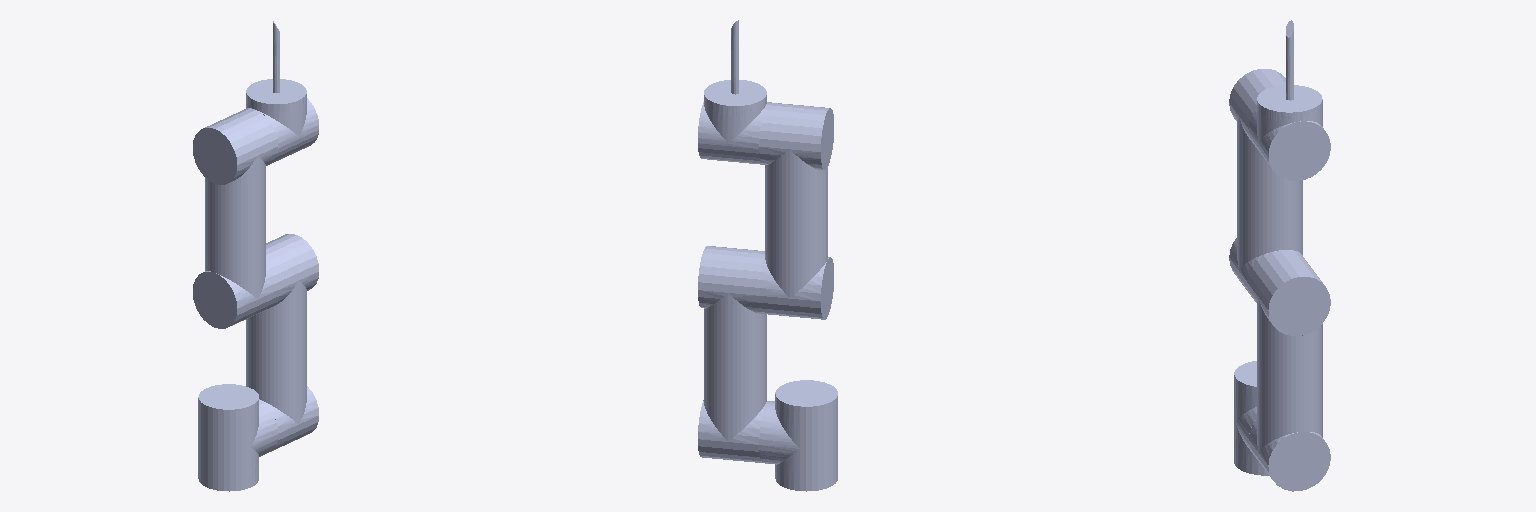
URDF robot description (CIARAFINAL):
<?xml version="1.0" encoding="utf-8"?>
<!-- This URDF was automatically created by SolidWorks to URDF Exporter! Originally created by Stephen Brawner (brawner@gmail.com) 
     Commit Version: 1.6.0-4-g7f85cfe  Build Version: 1.6.7995.38578
     For more information, please see http://wiki.ros.org/sw_urdf_exporter -->
<robot
  name="CIARAFINAL">
  <link
    name="base_link">
    <inertial>
      <origin
        xyz="-6.7028E-35 1.7543E-18 0.035279"
        rpy="0 0 0" />
      <mass
        value="0.39708" />
      <inertia
        ixx="0.00039044"
        ixy="5.3877E-37"
        ixz="-1.1957E-36"
        iyy="0.00039044"
        iyz="1.0321E-20"
        izz="0.00032938" />
    </inertial>
    <visual>
      <origin
        xyz="0 0 0"
        rpy="0 0 0" />
      <geometry>
        <mesh
          filename="package://CIARAFINAL/meshes/base_link.STL" />
      </geometry>
      <material
        name="">
        <color
          rgba="0.79216 0.81961 0.93333 1" />
      </material>
    </visual>
    <collision>
      <origin
        xyz="0 0 0"
        rpy="0 0 0" />
      <geometry>
        <mesh
          filename="package://CIARAFINAL/meshes/base_link.STL" />
      </geometry>
    </collision>
  </link>
  <link
    name="link_0">
    <inertial>
      <origin
        xyz="0.0042585 0.00134 0.091053"
        rpy="0 0 0" />
      <mass
        value="0.32131" />
      <inertia
        ixx="0.00028822"
        ixy="-7.887E-06"
        ixz="7.2737E-08"
        iyy="0.0003108"
        iyz="2.2912E-08"
        izz="0.00018994" />
    </inertial>
    <visual>
      <origin
        xyz="0 0 0"
        rpy="0 0 0" />
      <geometry>
        <mesh
          filename="package://CIARAFINAL/meshes/link_0.STL" />
      </geometry>
      <material
        name="">
        <color
          rgba="0.79216 0.81961 0.93333 1" />
      </material>
    </visual>
    <collision>
      <origin
        xyz="0 0 0"
        rpy="0 0 0" />
      <geometry>
        <mesh
          filename="package://CIARAFINAL/meshes/link_0.STL" />
      </geometry>
    </collision>
  </link>
  <joint
    name="joint_0"
    type="revolute">
    <origin
      xyz="0 0 0.041"
      rpy="0 0 0" />
    <parent
      link="base_link" />
    <child
      link="link_0" />
    <axis
      xyz="0 0 1" />
    <limit
      lower="-1.571"
      upper="1.571"
      effort="3.9227"
      velocity="3" />
  </joint>
  <link
    name="link_1">
    <inertial>
      <origin
        xyz="-4.4858E-18 0.081 0.071963"
        rpy="0 0 0" />
      <mass
        value="0.70536" />
      <inertia
        ixx="0.0030879"
        ixy="3.7216E-10"
        ixz="4.1741E-10"
        iyy="0.0003745"
        iyz="4.4167E-20"
        izz="0.0030672" />
    </inertial>
    <visual>
      <origin
        xyz="0 0 0"
        rpy="0 0 0" />
      <geometry>
        <mesh
          filename="package://CIARAFINAL/meshes/link_1.STL" />
      </geometry>
      <material
        name="">
        <color
          rgba="0.79216 0.81961 0.93333 1" />
      </material>
    </visual>
    <collision>
      <origin
        xyz="0 0 0"
        rpy="0 0 0" />
      <geometry>
        <mesh
          filename="package://CIARAFINAL/meshes/link_1.STL" />
      </geometry>
    </collision>
  </link>
  <joint
    name="joint_1"
    type="revolute">
    <origin
      xyz="0 0 0.091"
      rpy="1.5708 0 1.8757" />
    <parent
      link="link_0" />
    <child
      link="link_1" />
    <axis
      xyz="0 0 1" />
    <limit
      lower="-1.571"
      upper="1.571"
      effort="3.9227"
      velocity="3" />
  </joint>
  <link
    name="link_2">
    <inertial>
      <origin
        xyz="-5.0307E-17 0.081 0.062032"
        rpy="0 0 0" />
      <mass
        value="0.70379" />
      <inertia
        ixx="0.003076"
        ixy="5.0576E-10"
        ixz="1.5235E-10"
        iyy="0.00037297"
        iyz="1.8011E-10"
        izz="0.0030569" />
    </inertial>
    <visual>
      <origin
        xyz="0 0 0"
        rpy="0 0 0" />
      <geometry>
        <mesh
          filename="package://CIARAFINAL/meshes/link_2.STL" />
      </geometry>
      <material
        name="">
        <color
          rgba="0.79216 0.81961 0.93333 1" />
      </material>
    </visual>
    <collision>
      <origin
        xyz="0 0 0"
        rpy="0 0 0" />
      <geometry>
        <mesh
          filename="package://CIARAFINAL/meshes/link_2.STL" />
      </geometry>
    </collision>
  </link>
  <joint
    name="joint_2"
    type="revolute">
    <origin
      xyz="0 0.162 0.072"
      rpy="-3.1416 0 3.1416" />
    <parent
      link="link_1" />
    <child
      link="link_2" />
    <axis
      xyz="0 0 1" />
    <limit
      lower="-2.269"
      upper="2.269"
      effort="1.9613"
      velocity="3" />
  </joint>
  <link
    name="link_3">
    <inertial>
      <origin
        xyz="2.4951E-09 0.0061951 0.061943"
        rpy="0 0 0" />
      <mass
        value="0.23152" />
      <inertia
        ixx="0.00015428"
        ixy="-5.0414E-11"
        ixz="-5.5275E-12"
        iyy="0.00012922"
        iyz="-8.1504E-08"
        izz="0.00014394" />
    </inertial>
    <visual>
      <origin
        xyz="0 0 0"
        rpy="0 0 0" />
      <geometry>
        <mesh
          filename="package://CIARAFINAL/meshes/link_3.STL" />
      </geometry>
      <material
        name="">
        <color
          rgba="0.79216 0.81961 0.93333 1" />
      </material>
    </visual>
    <collision>
      <origin
        xyz="0 0 0"
        rpy="0 0 0" />
      <geometry>
        <mesh
          filename="package://CIARAFINAL/meshes/link_3.STL" />
      </geometry>
    </collision>
  </link>
  <joint
    name="joint_3"
    type="revolute">
    <origin
      xyz="0 0.162 0.062"
      rpy="3.1416 0 3.1416" />
    <parent
      link="link_2" />
    <child
      link="link_3" />
    <axis
      xyz="0 0 1" />
    <limit
      lower="-1.92"
      upper="1.92"
      effort="1.0787"
      velocity="3" />
  </joint>
  <link
    name="end">
    <inertial>
      <origin
        xyz="-7.1715E-06 -8.0893E-06 0.040568"
        rpy="0 0 0" />
      <mass
        value="0.033458" />
      <inertia
        ixx="1.4757E-05"
        ixy="-3.3809E-12"
        ixz="1.7576E-08"
        iyy="1.4757E-05"
        iyz="1.9827E-08"
        izz="1.4531E-05" />
    </inertial>
    <visual>
      <origin
        xyz="0 0 0"
        rpy="0 0 0" />
      <geometry>
        <mesh
          filename="package://CIARAFINAL/meshes/end.STL" />
      </geometry>
      <material
        name="">
        <color
          rgba="0.79216 0.81961 0.93333 1" />
      </material>
    </visual>
    <collision>
      <origin
        xyz="0 0 0"
        rpy="0 0 0" />
      <geometry>
        <mesh
          filename="package://CIARAFINAL/meshes/end.STL" />
      </geometry>
    </collision>
  </link>
  <joint
    name="joint_4"
    type="revolute">
    <origin
      xyz="0 0 0.062"
      rpy="1.5708 0 -3.1416" />
    <parent
      link="link_3" />
    <child
      link="end" />
    <axis
      xyz="0 0 1" />
    <limit
      lower="-1.92"
      upper="1.92"
      effort="1.0787"
      velocity="3" />
  </joint>
</robot>

--- What the picture shows (computed from the rendered views, not written in the file) ---
3 views of the same robot in one strip: view 1: azimuth 30°, elevation 25°; view 2: azimuth 150°, elevation 25°; view 3: azimuth 270°, elevation 25° (orthographic).
Robot: CIARAFINAL — 6 links, 5 joints (5 revolute); root link base_link; default pose: every joint at zero.
Visible links, largest first — view 1: link_2, link_1, link_0, link_3, end; view 2: link_2, link_1, link_0, link_3, end; view 3: link_1, link_2, link_3, link_0, end.
Link boxes in pixels (x1=…): link_2: x1=193, y1=109, x2=277, y2=328; link_1: x1=246, y1=234, x2=318, y2=451; link_0: x1=198, y1=384, x2=277, y2=491; link_3: x1=246, y1=79, x2=318, y2=164; end: x1=246, y1=21, x2=306, y2=112; link_2: x1=759, y1=102, x2=833, y2=319; link_1: x1=698, y1=246, x2=766, y2=462; link_0: x1=759, y1=380, x2=837, y2=491; link_3: x1=698, y1=90, x2=767, y2=164; end: x1=704, y1=20, x2=765, y2=114; link_1: x1=1249, y1=250, x2=1330, y2=491; link_2: x1=1229, y1=69, x2=1304, y2=296; link_3: x1=1249, y1=85, x2=1330, y2=180; link_0: x1=1234, y1=361, x2=1268, y2=475; end: x1=1257, y1=20, x2=1312, y2=121.
Bounding box of the posed robot: 0.1384 × 0.0964 × 0.491 m (x, y, z).
Meshes: 6 distinct files referenced, 5 mesh visuals loaded (5 binary STL); not drawn: 1 (reference not matched to a file when rendering).
